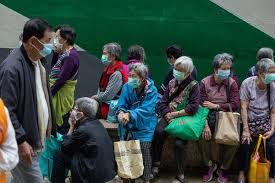masked: (22, 17, 54, 58), (210, 53, 235, 82), (70, 99, 97, 124), (125, 64, 149, 88), (171, 57, 194, 82), (253, 58, 275, 84), (54, 30, 76, 52), (100, 43, 121, 65)
